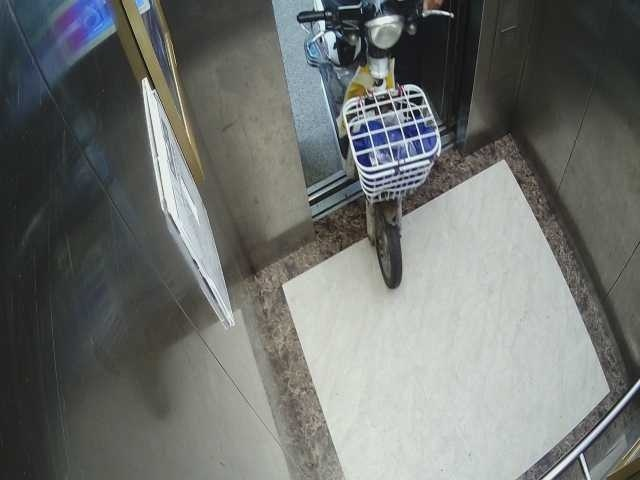emotor: (295, 1, 449, 297)
